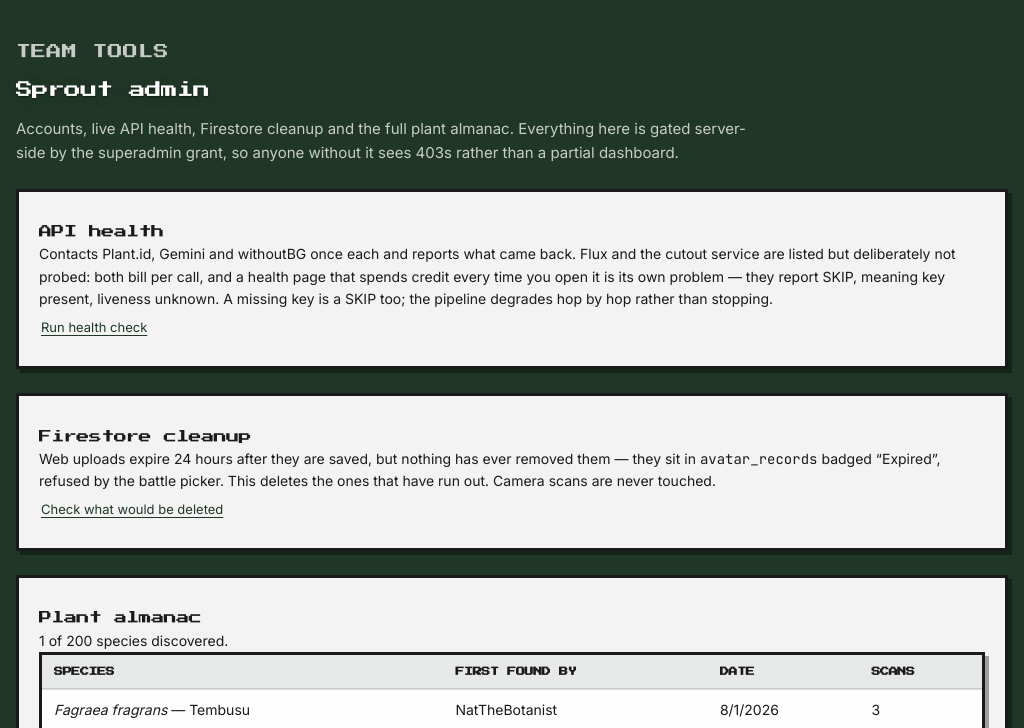
AdminPage operations panels › will not delete on a single press
Click the button "Check what would be deleted" at [132, 510], box [39, 492, 225, 528]
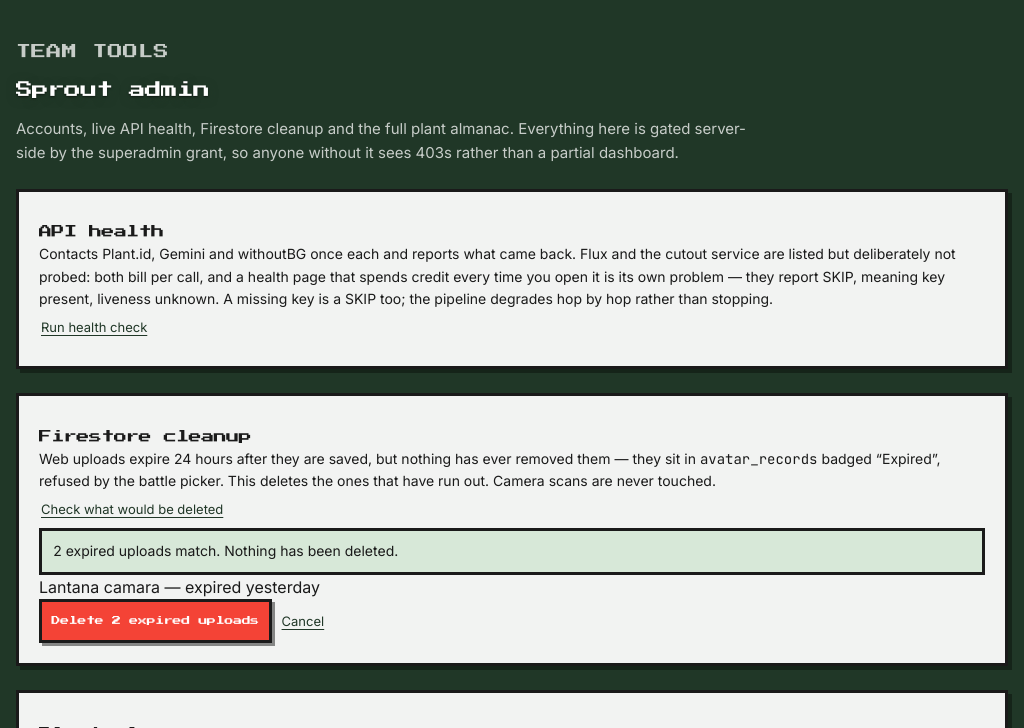
expect the text "2 expired uploads match. Nothing has been deleted." is shown: met, box [39, 528, 985, 576]
expect the list item "Lantana camara — expired yesterday" is shown: met, box [39, 578, 320, 598]
